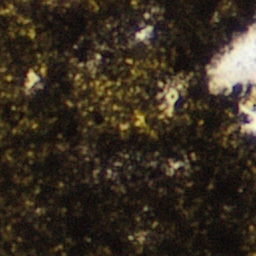cement_matrix: (0, 0, 255, 255), (162, 84, 179, 113), (137, 28, 149, 40), (27, 73, 37, 86)
gravel_crushed_stones: (209, 24, 255, 134), (163, 85, 178, 112), (138, 29, 148, 39), (28, 74, 36, 85)
